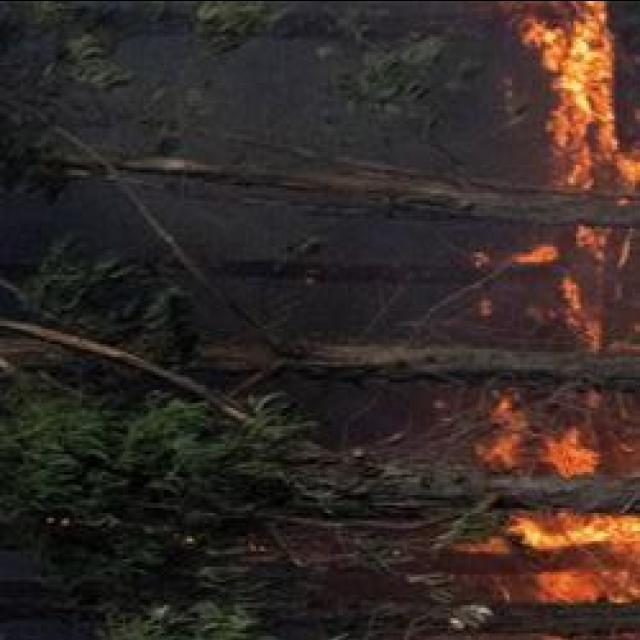fire: (533, 2, 609, 175), (520, 507, 636, 597)
smoke: (200, 336, 294, 450)
